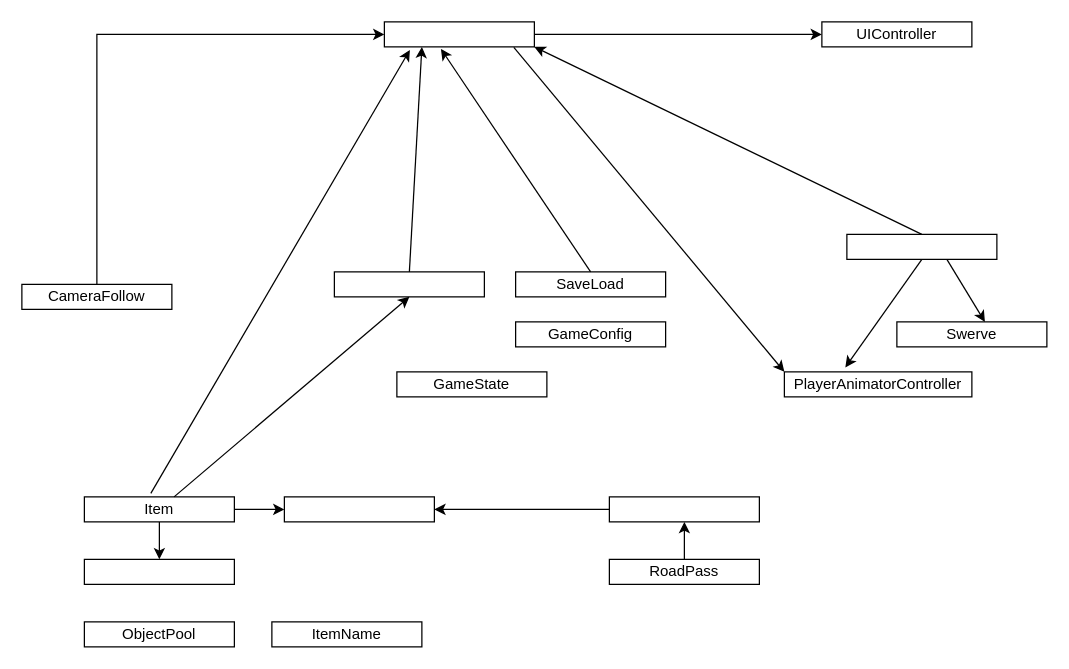
Image size: 1069x669. Some labels were removed from this diagram. The shapes that lost their labels are listed below. From the top down, each one's centre as x and y in pixels, then its label:
At point 458,34: "GameManager".
At point 921,246: "PlayerController".
At point 408,284: "MoneyCalculator".
At point 358,509: "ItemGenerator".
At point 683,509: "RoadController".
At point 158,571: "ItemType".
